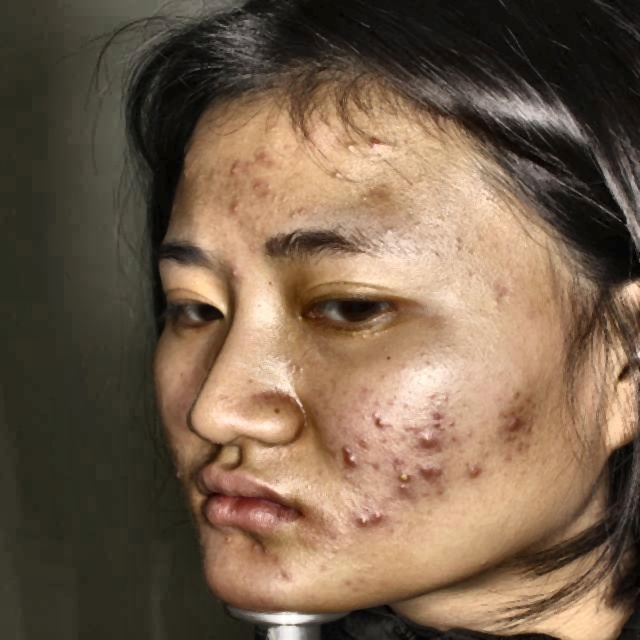papule: (351, 505, 386, 530), (500, 413, 530, 441), (385, 465, 418, 488), (257, 174, 281, 202), (460, 455, 488, 479), (509, 384, 535, 408), (369, 412, 393, 437), (224, 158, 248, 182), (413, 425, 434, 452), (260, 146, 284, 166), (356, 129, 378, 150), (420, 461, 440, 484), (226, 198, 254, 214), (421, 400, 443, 420), (273, 563, 292, 584), (338, 445, 352, 472), (238, 539, 260, 554), (227, 262, 243, 281)
